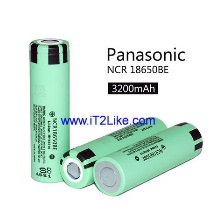battery: (88, 117, 204, 198), (56, 113, 171, 192), (26, 34, 72, 185)
